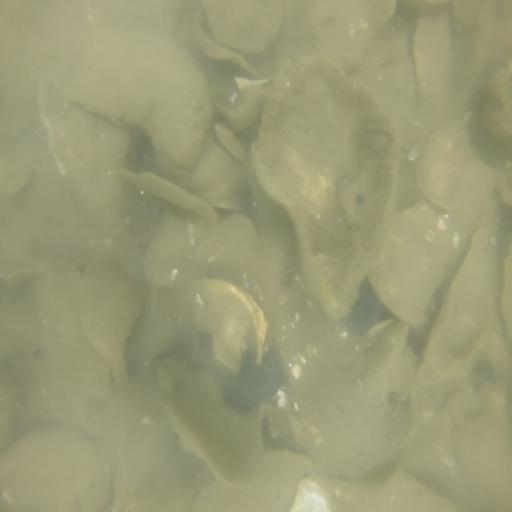Oyster-Closed: (243, 49, 404, 328), (68, 32, 212, 168), (155, 347, 267, 496), (366, 202, 453, 326), (1, 432, 112, 512), (191, 276, 268, 377), (80, 255, 147, 368), (110, 166, 218, 224), (204, 1, 282, 55)
